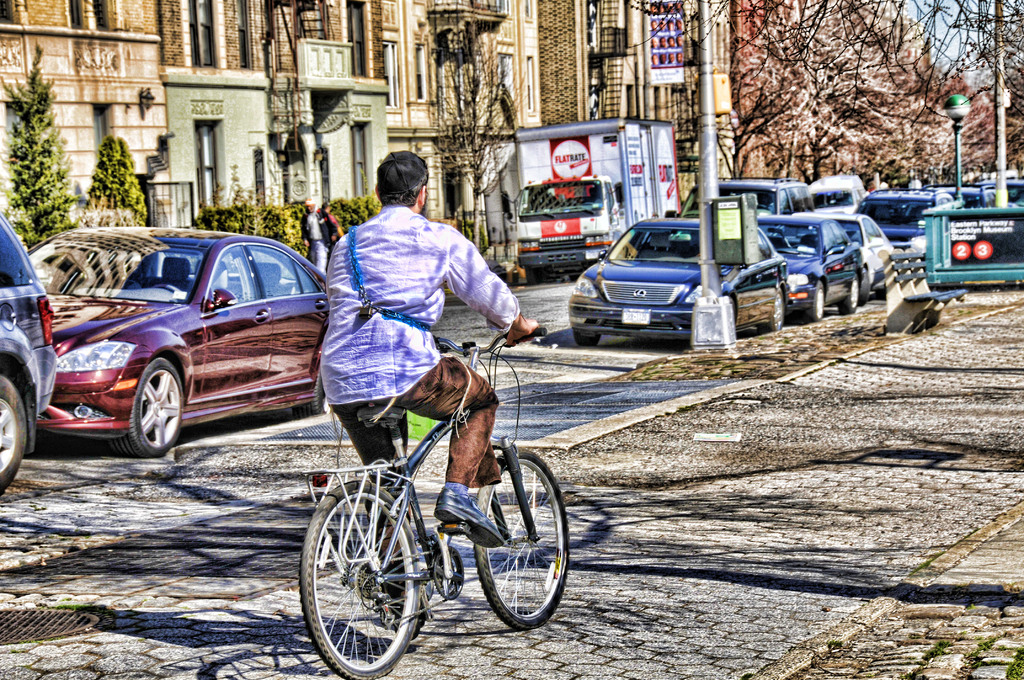cars: (563, 175, 1023, 346), (23, 225, 330, 460), (0, 204, 57, 495)
